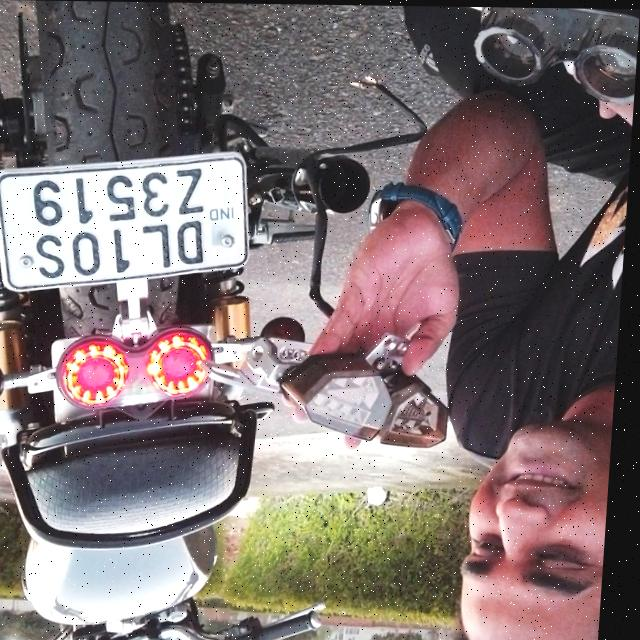plate: (0, 127, 257, 294)
